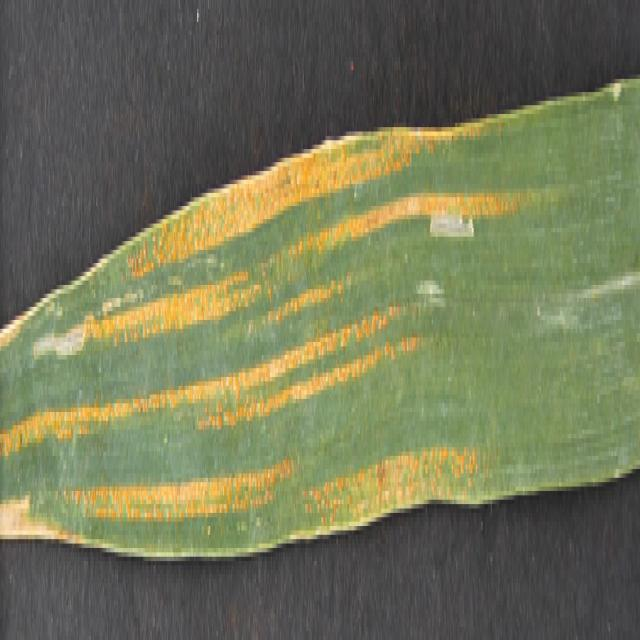leaf rust: (1, 114, 530, 574)
